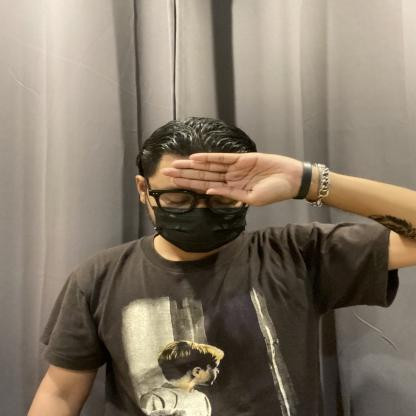Sick: (78, 115, 310, 254)
